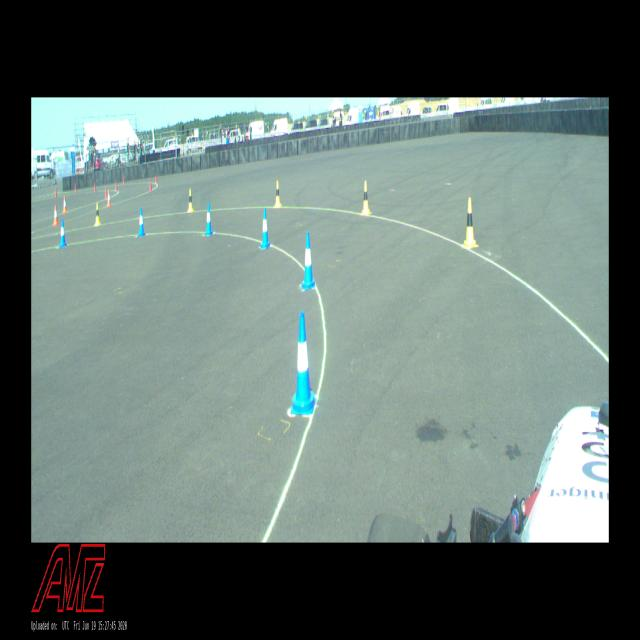blue_cone: (290, 311, 316, 415), (302, 232, 315, 290), (259, 208, 271, 250), (204, 203, 213, 237), (137, 208, 145, 238), (59, 219, 66, 247)
orange_cone: (52, 206, 58, 226), (62, 196, 67, 214), (107, 190, 111, 207)
yellow_cone: (462, 198, 477, 248), (361, 181, 370, 215), (274, 181, 282, 206), (94, 203, 101, 226), (188, 188, 194, 213)
